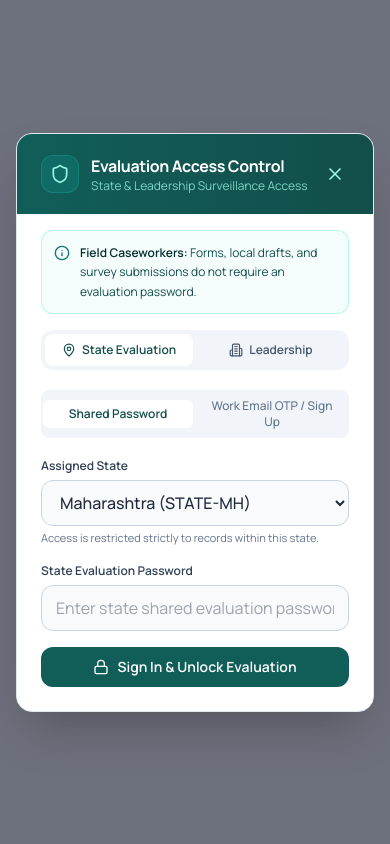
EvaluationLoginModal Component › 2. switches to Leadership tab and mounts LeadershipOtpFlow in-place
Click the tab "Leadership" at (271, 350), box [197,334,345,366]
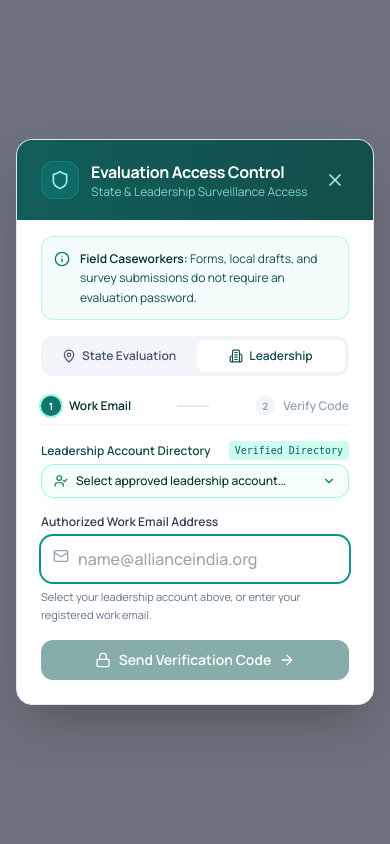
Expected: the label labelled "State Evaluation Password" is gone
Expected: the field labelled "Authorized Work Email Address" is shown, [41,536,349,582]
Expected: the button "Send Verification Code" is shown, [41,640,349,680]
